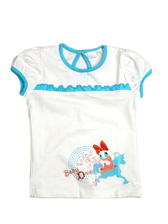clothoes: (8, 46, 156, 203)
